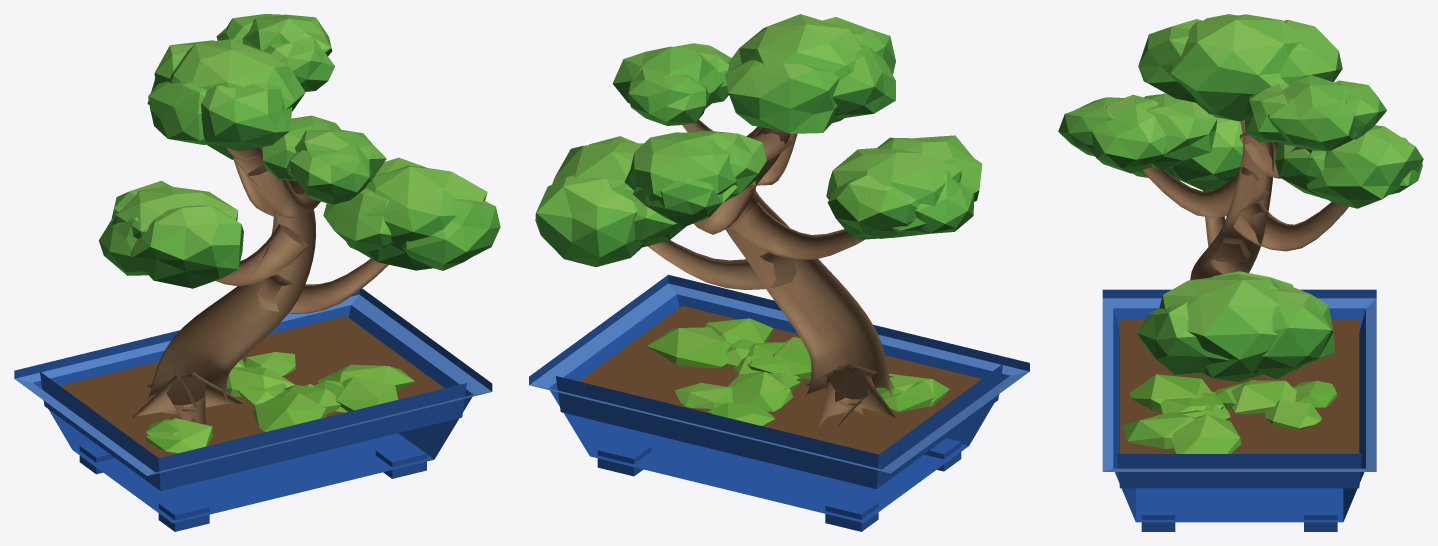
File: bonsai.glb
The picture shows the model from 3 angles, left to right: view 1: azimuth 30°, elevation 25°; view 2: azimuth 150°, elevation 25°; view 3: azimuth 270°, elevation 25°; orthographic projection. The views are drawn at different scales.
Parts seen in each view (by area): view 1: bonsai; view 2: bonsai; view 3: bonsai.
Part boxes in pixels (x1,y1,x2,y2): bonsai: (14,14,500,531); bonsai: (529,14,1029,531); bonsai: (1058,14,1423,531).
Bounding box in the file's own units: 2.47 × 2.56 × 1.94.
